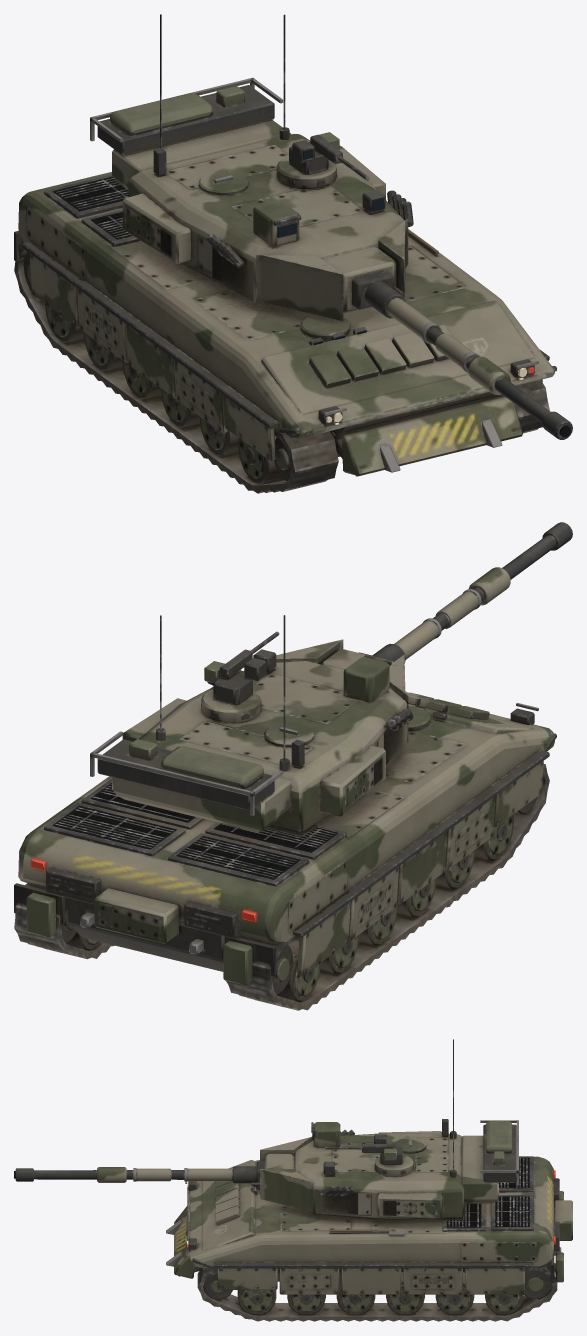
File: hs_tank_nosorog_lod0.glb
The picture shows the model from 3 angles, top to bottom: view 1: azimuth 30°, elevation 25°; view 2: azimuth 150°, elevation 25°; view 3: azimuth 270°, elevation 25°; orthographic projection. The views are drawn at different scales.
Size of the model in its own units: 3.86 by 4.57 by 10.4.
1 material, 1 textured.
